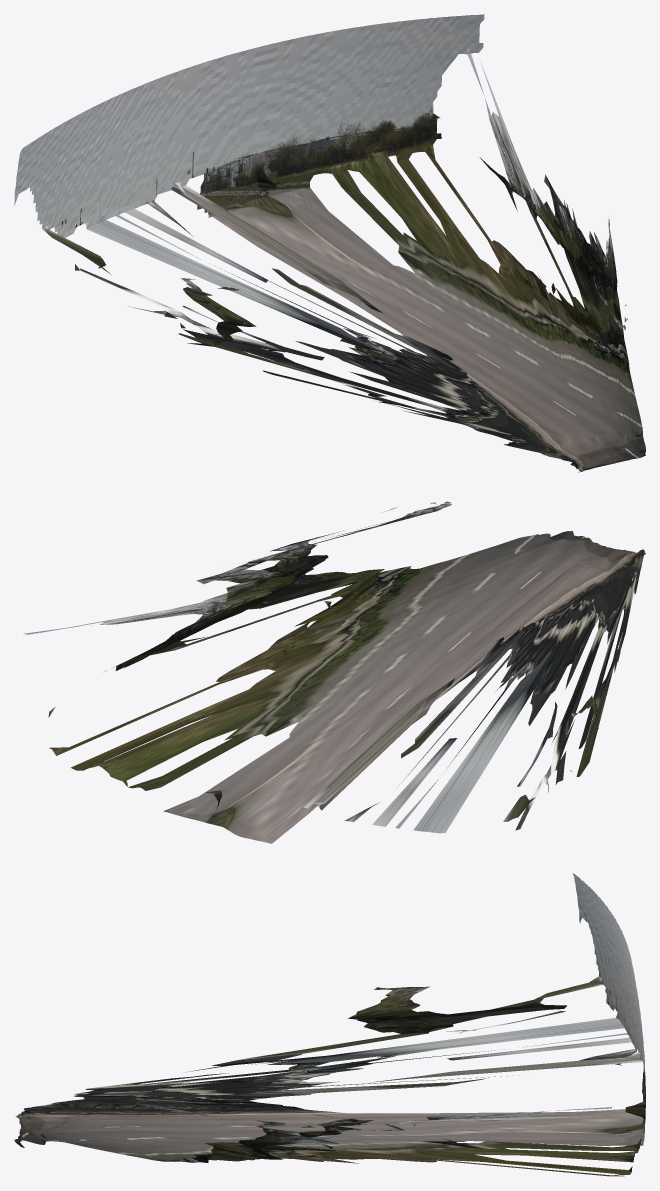
The picture shows the model from 3 angles, top to bottom: view 1: azimuth 30°, elevation 25°; view 2: azimuth 150°, elevation 25°; view 3: azimuth 270°, elevation 25°; orthographic projection. The views are drawn at different scales.
Visible parts, largest first — view 1: defaultobject; view 2: defaultobject; view 3: defaultobject.
Boxes of the visible parts, bbox=[...] form: defaultobject: bbox=[14, 14, 645, 472]; defaultobject: bbox=[23, 501, 645, 843]; defaultobject: bbox=[14, 873, 645, 1176].
Size of the model in its own units: 35.16 by 11.8 by 44.63.
Materials: 1 (1 with a texture image).
